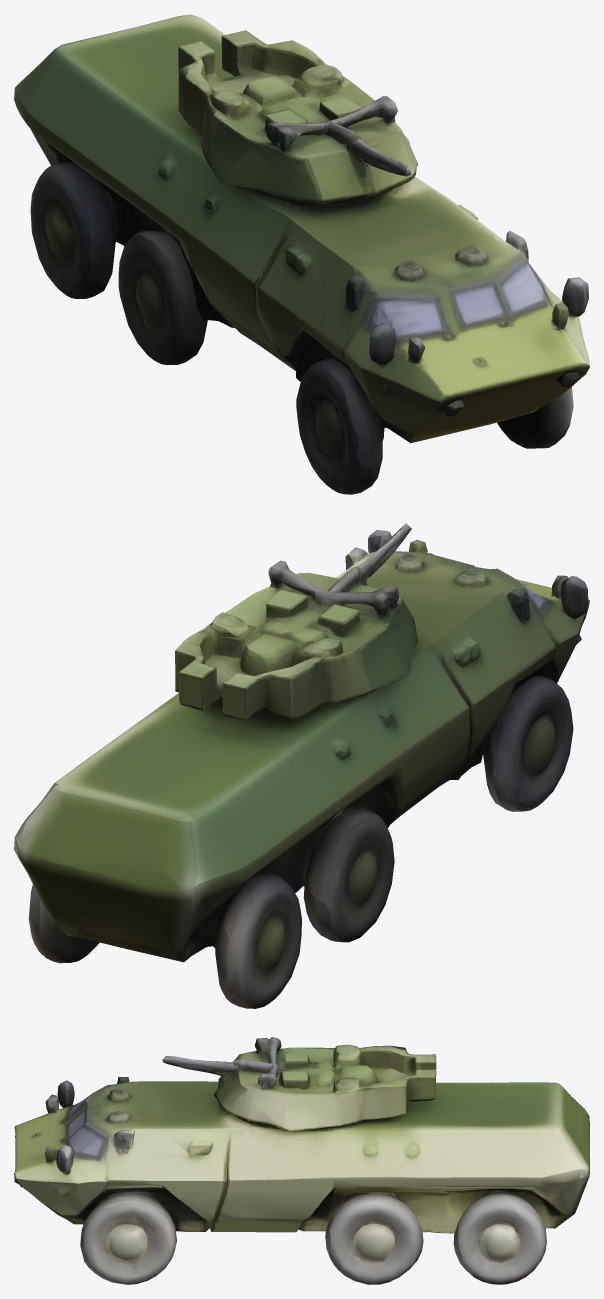
File: apc.glb
3 views of the same model, one above another, from view 1: azimuth 30°, elevation 25°; view 2: azimuth 150°, elevation 25°; view 3: azimuth 270°, elevation 25° (orthographic). The views are drawn at different scales.
Visible parts, largest first — view 1: geometry_0; view 2: geometry_0; view 3: geometry_0.
Boxes of the visible parts, <box> form: geometry_0: <box>14,14,589,494</box>; geometry_0: <box>14,523,589,1008</box>; geometry_0: <box>14,1037,589,1284</box>.
Bounding box in the file's own units: 0.2709 × 0.3194 × 0.8513.
Materials: 1 (1 with a texture image).
